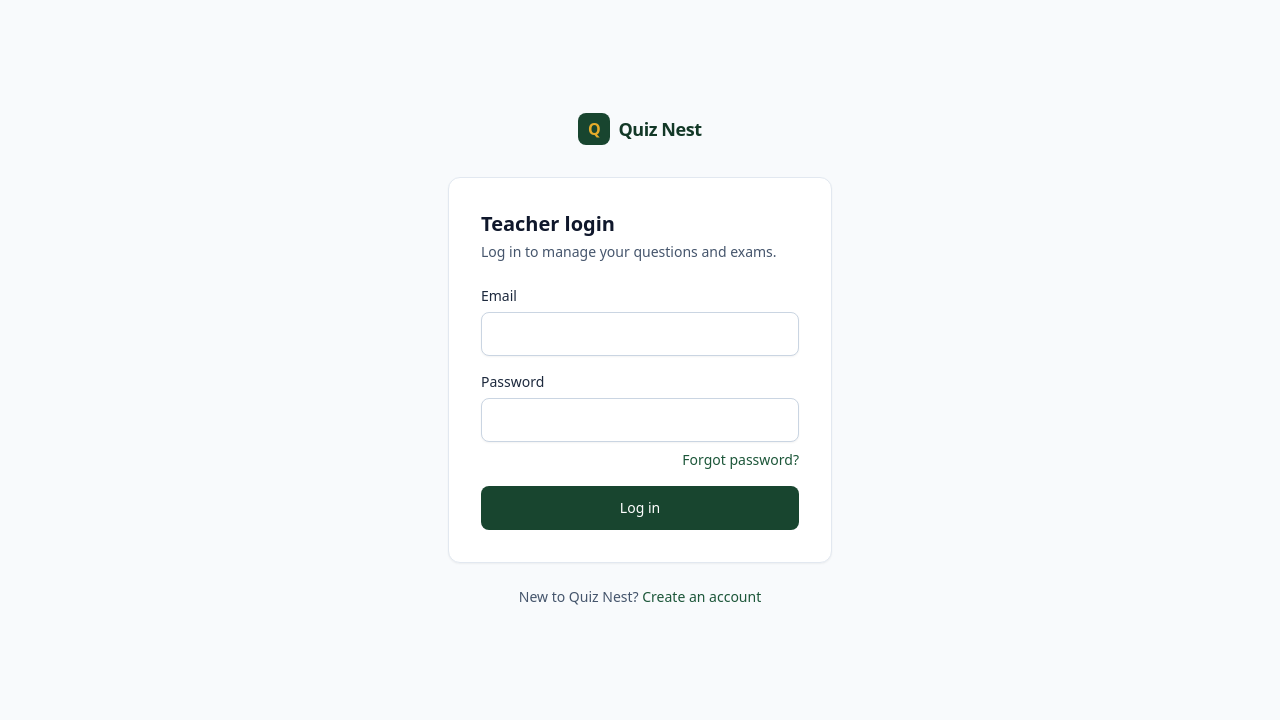
Scenario: login flow › logs in and goes to the page the teacher asked for
Step 1. Type "ayesha@cityschool.pk" into the field labelled "Email" → {"x": 640, "y": 334}, box x1=481 y1=312 x2=799 y2=356
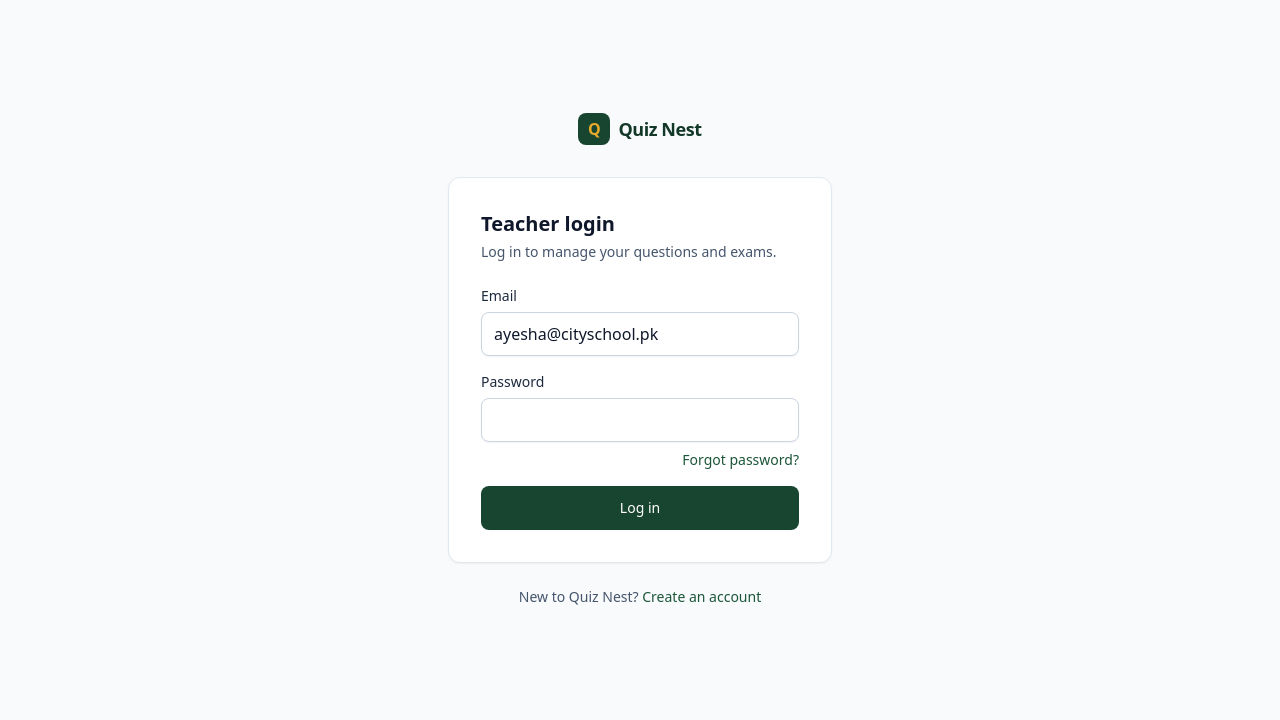
Step 2. Type "secret123" into the password field labelled "Password" → {"x": 640, "y": 420}, box x1=481 y1=398 x2=799 y2=442
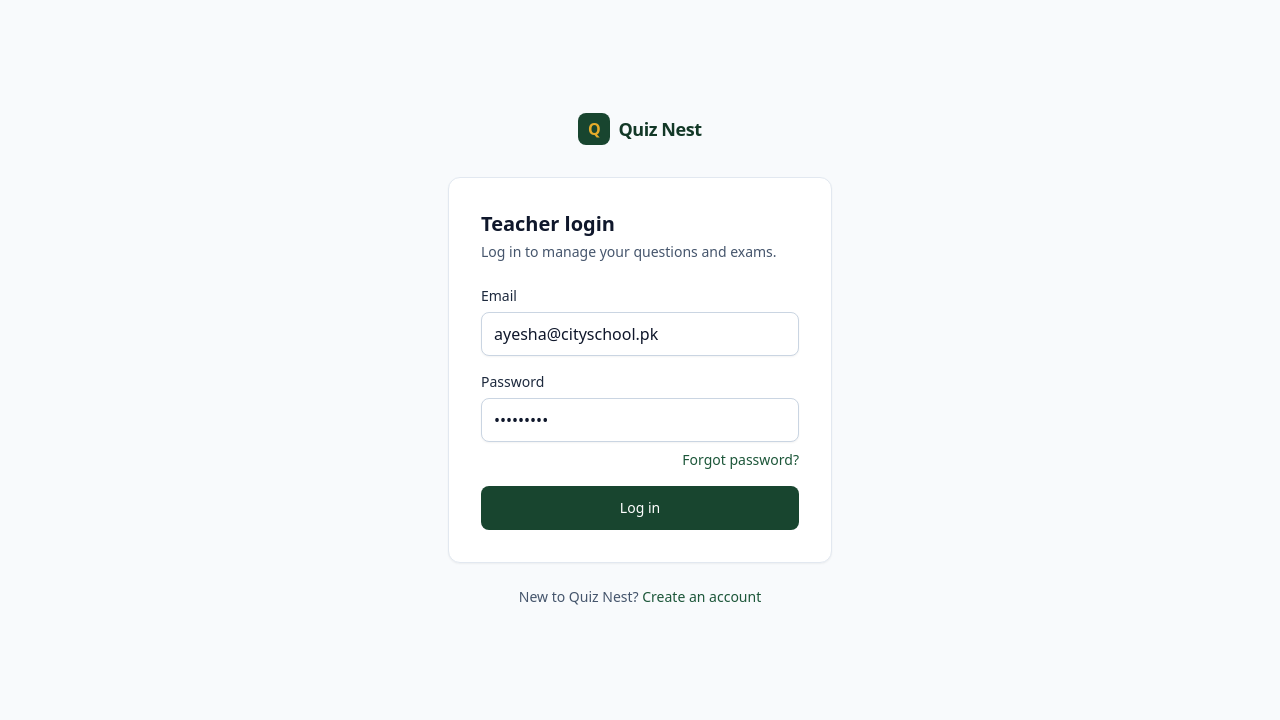
Step 3. Click the button "Log in" → {"x": 640, "y": 508}, box x1=481 y1=486 x2=799 y2=530
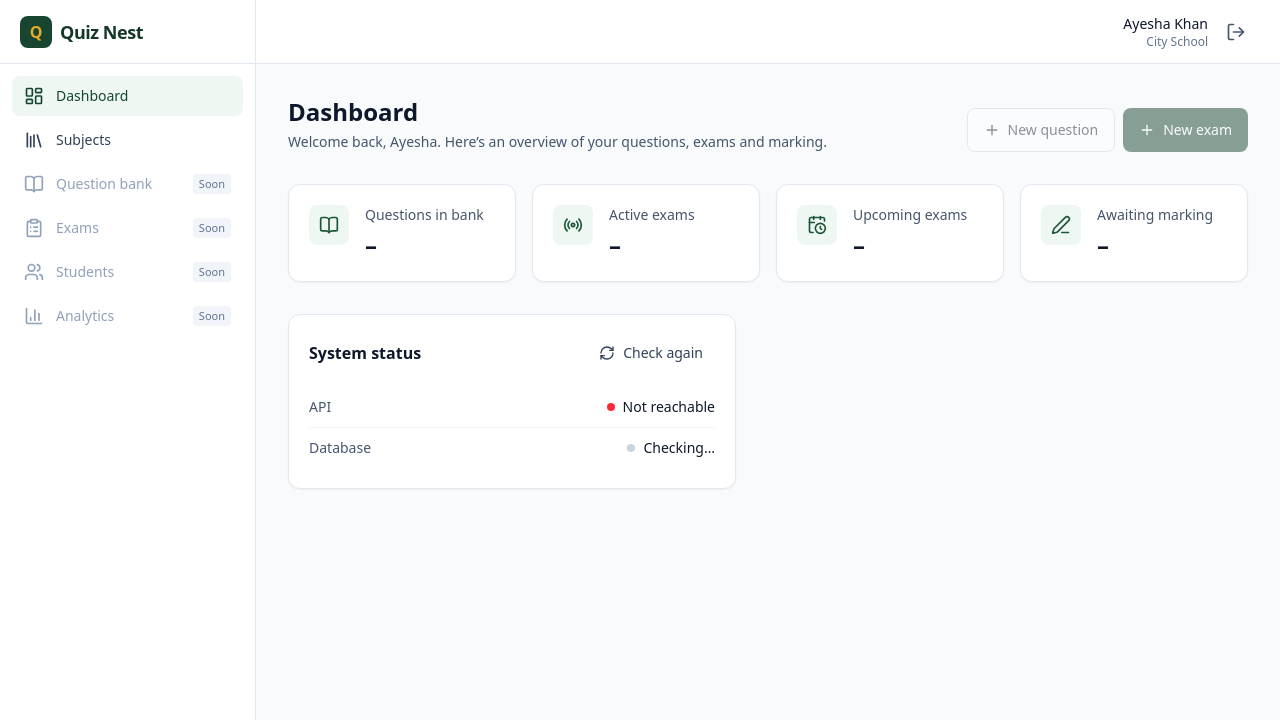
Expected: the text "Welcome back, Ayesha" is shown, x1=288 y1=132 x2=445 y2=151
